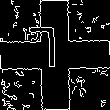L_S: (39, 30, 71, 80)
